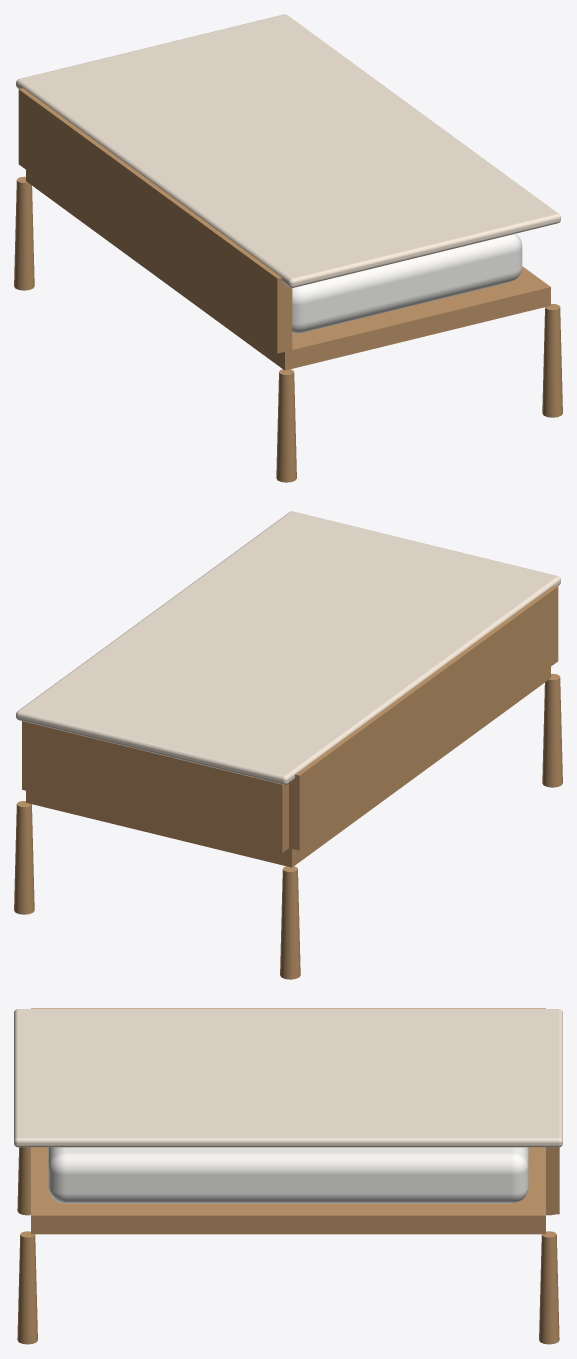
Rendered from kidsbed.glb.
3 views of the same model, one above another, from view 1: azimuth 30°, elevation 25°; view 2: azimuth 150°, elevation 25°; view 3: azimuth 270°, elevation 25° (orthographic).
Visible parts, largest first — view 1: material-0-fabric, material-1-frame, material-2-upholstery; view 2: material-0-fabric, material-1-frame; view 3: material-0-fabric, material-2-upholstery, material-1-frame.
Part boxes in pixels (bbox=[...]): material-0-fabric: bbox=[16, 14, 560, 287]; material-1-frame: bbox=[14, 88, 562, 482]; material-2-upholstery: bbox=[292, 233, 522, 333]; material-0-fabric: bbox=[16, 511, 560, 784]; material-1-frame: bbox=[14, 585, 562, 979]; material-0-fabric: bbox=[14, 1009, 562, 1147]; material-2-upholstery: bbox=[48, 1147, 528, 1203]; material-1-frame: bbox=[17, 1008, 559, 1344].
Bounding box in the file's own units: 0.95 × 0.65 × 1.6.
